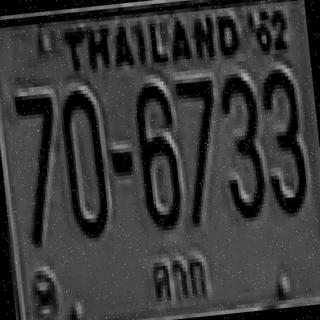N00: (56, 84, 108, 236)
N03: (256, 64, 308, 215), (214, 70, 265, 218)
N06: (131, 77, 183, 228)
N07: (12, 89, 64, 245), (172, 72, 224, 224), (12, 90, 61, 218), (12, 89, 58, 190)
P69: (145, 251, 217, 310)
